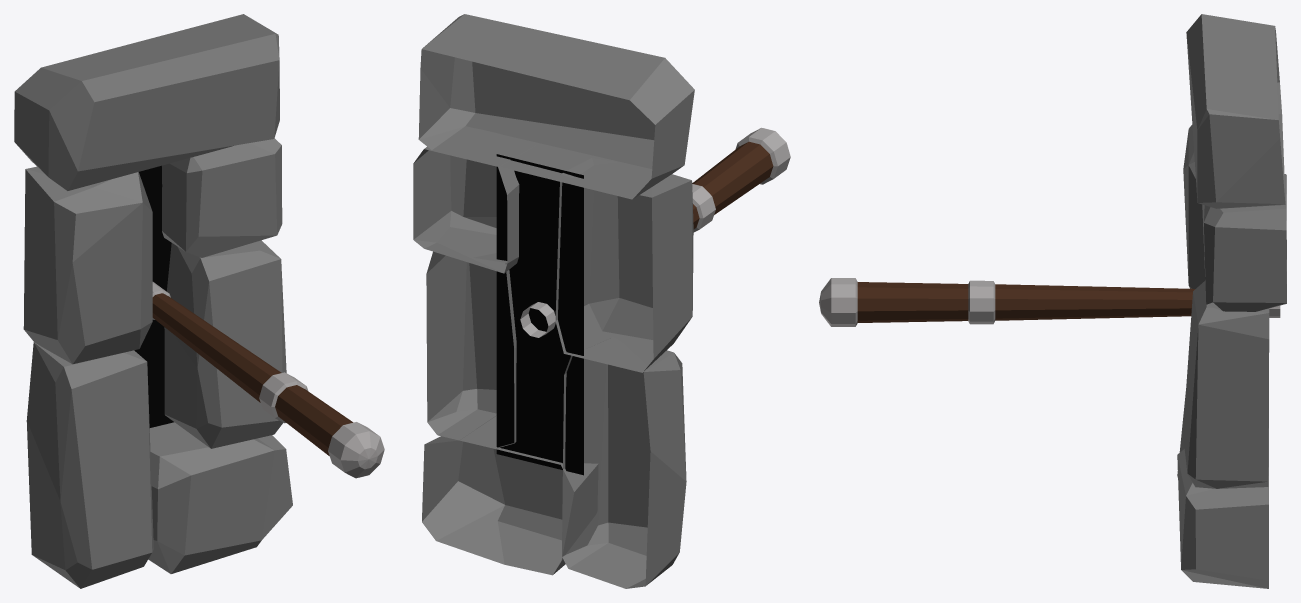
File: StoneWallLever_1.fbx
The picture shows the model from 3 angles, left to right: view 1: azimuth 30°, elevation 25°; view 2: azimuth 150°, elevation 25°; view 3: azimuth 270°, elevation 25°; orthographic projection. The views are drawn at different scales.
Visible parts, largest first — view 1: StoneWallLever_1_Casing, StoneWallLever_1_Handle; view 2: StoneWallLever_1_Casing, StoneWallLever_1_Handle; view 3: StoneWallLever_1_Casing, StoneWallLever_1_Handle.
Boxes of the visible parts, left/top/right/bottom form: StoneWallLever_1_Casing: left=14, top=14, right=292, bottom=588; StoneWallLever_1_Handle: left=152, top=282, right=384, bottom=478; StoneWallLever_1_Casing: left=413, top=14, right=694, bottom=588; StoneWallLever_1_Handle: left=520, top=127, right=790, bottom=337; StoneWallLever_1_Casing: left=1177, top=14, right=1286, bottom=588; StoneWallLever_1_Handle: left=819, top=278, right=1280, bottom=326.
Size of the model in its own units: 30.96 by 63.04 by 54.25.
